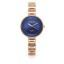watch: (18, 13, 47, 39)
